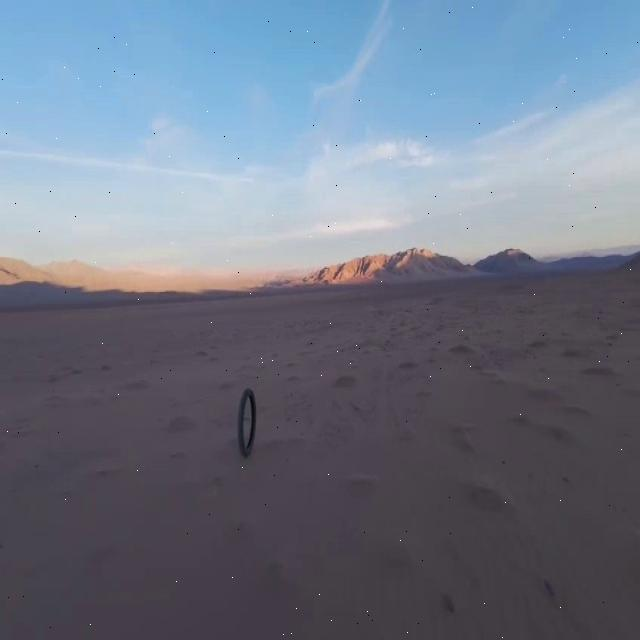Tire: (238, 388, 256, 457)
